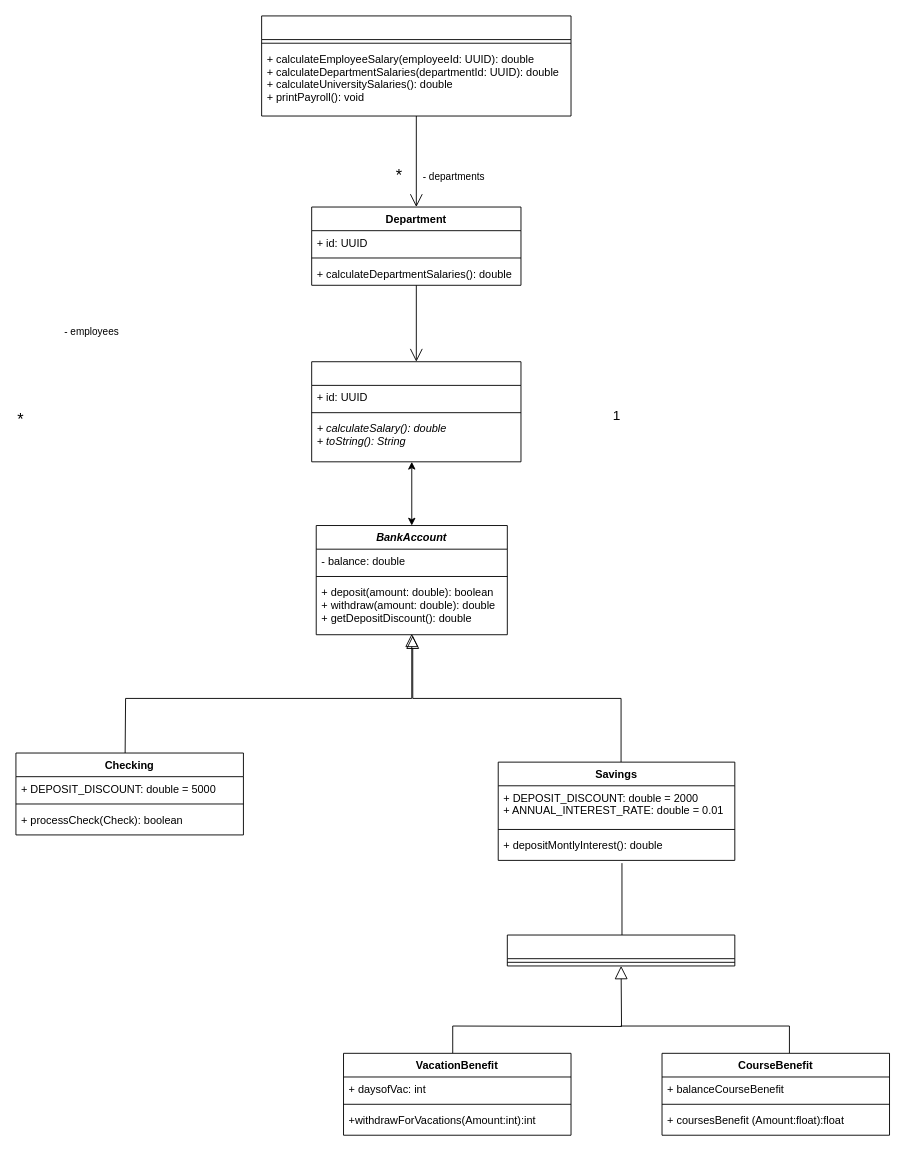
Image size: 905x1154. Some labels were removed from this diagram. The box of each missing label's shape, as (x1, y1, x2, y2) in pixels:
Employee: (311, 361, 521, 462)
SabanaPayroll: (261, 15, 571, 116)
UniversityBenefit: (506, 934, 735, 966)
